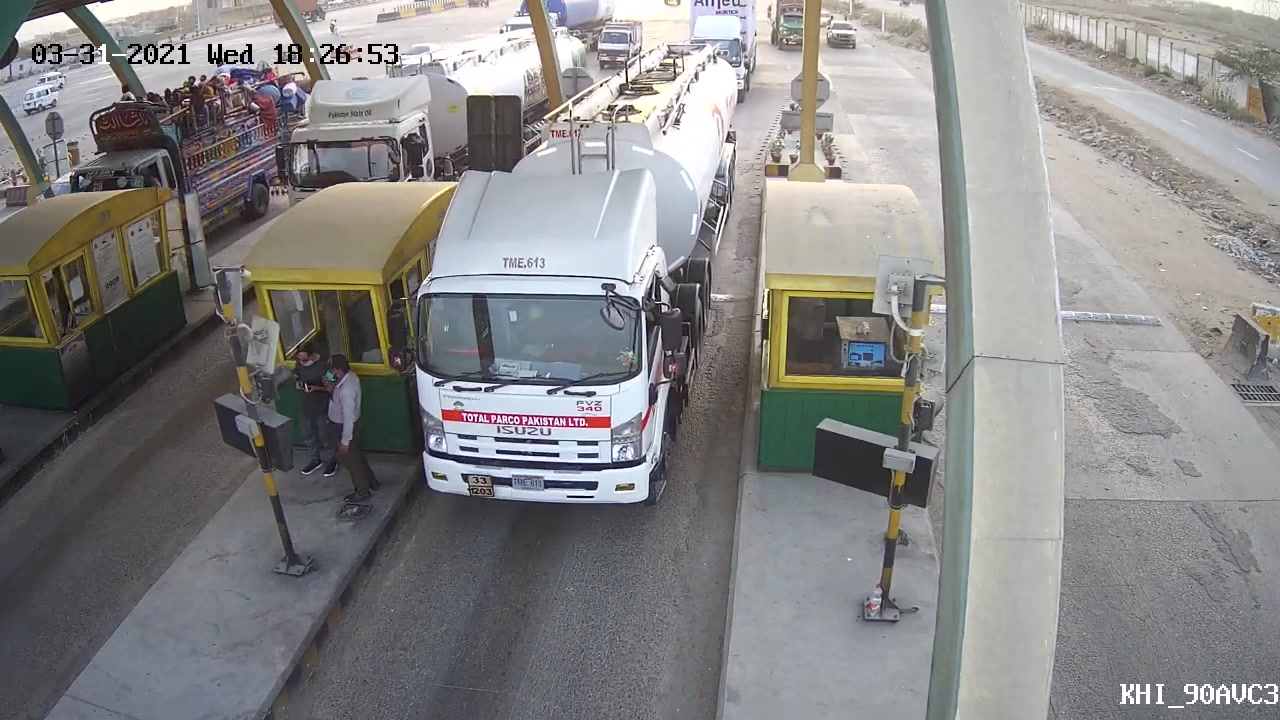F6: (405, 44, 748, 518)
